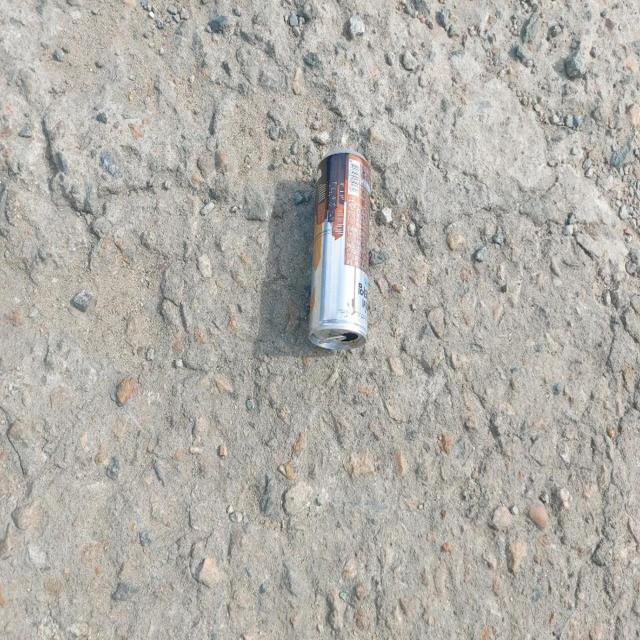can: (310, 148, 371, 350)
